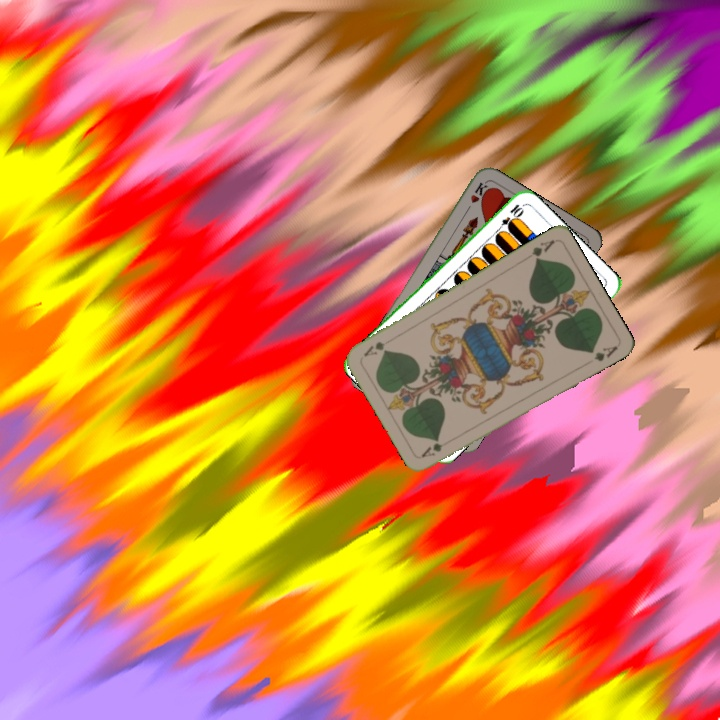E10: (492, 200, 525, 235)
GA: (520, 235, 557, 264), (417, 440, 445, 460)
HK: (461, 178, 490, 216)
